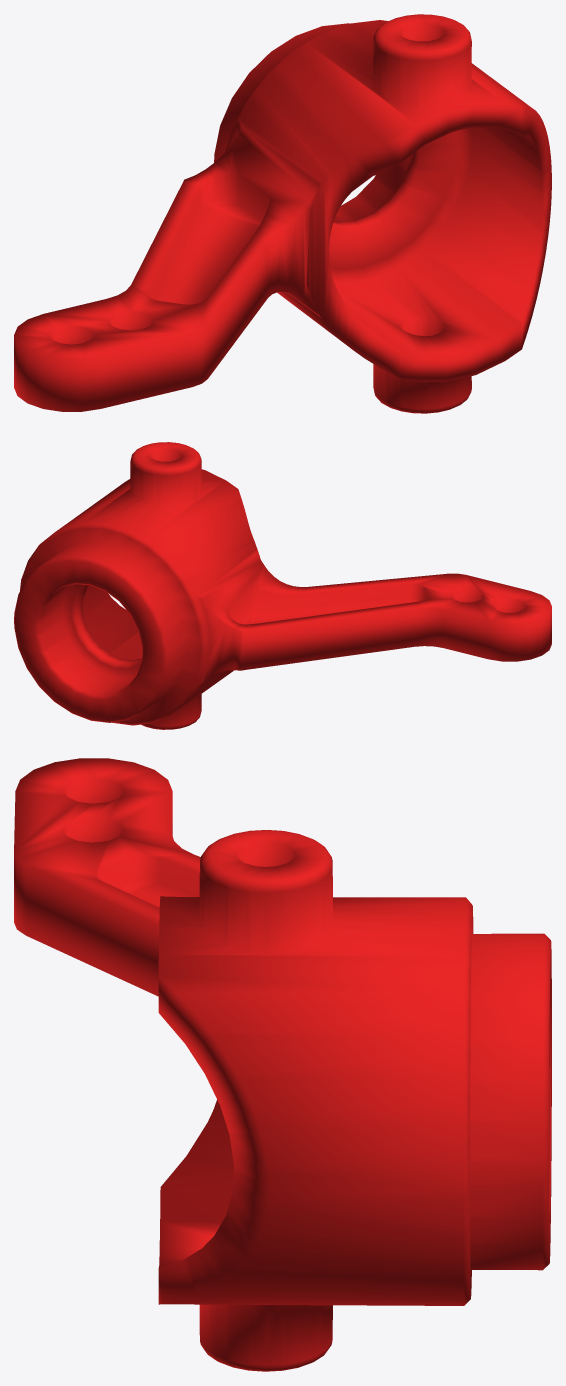
The model's file is front_left_steer.dae.
3 renders of one model, top to bottom at view 1: azimuth 30°, elevation 25°; view 2: azimuth 150°, elevation 25°; view 3: azimuth 270°, elevation 25°, orthographic. The views are drawn at different scales.
Visible parts, largest first — view 1: front_left_steer; view 2: front_left_steer; view 3: front_left_steer.
Boxes of the visible parts, bbox=[...] form: front_left_steer: bbox=[14, 14, 551, 413]; front_left_steer: bbox=[14, 442, 551, 729]; front_left_steer: bbox=[14, 758, 551, 1371].
Bounding box in the file's own units: 0.0415 × 0.024 × 0.0242.
